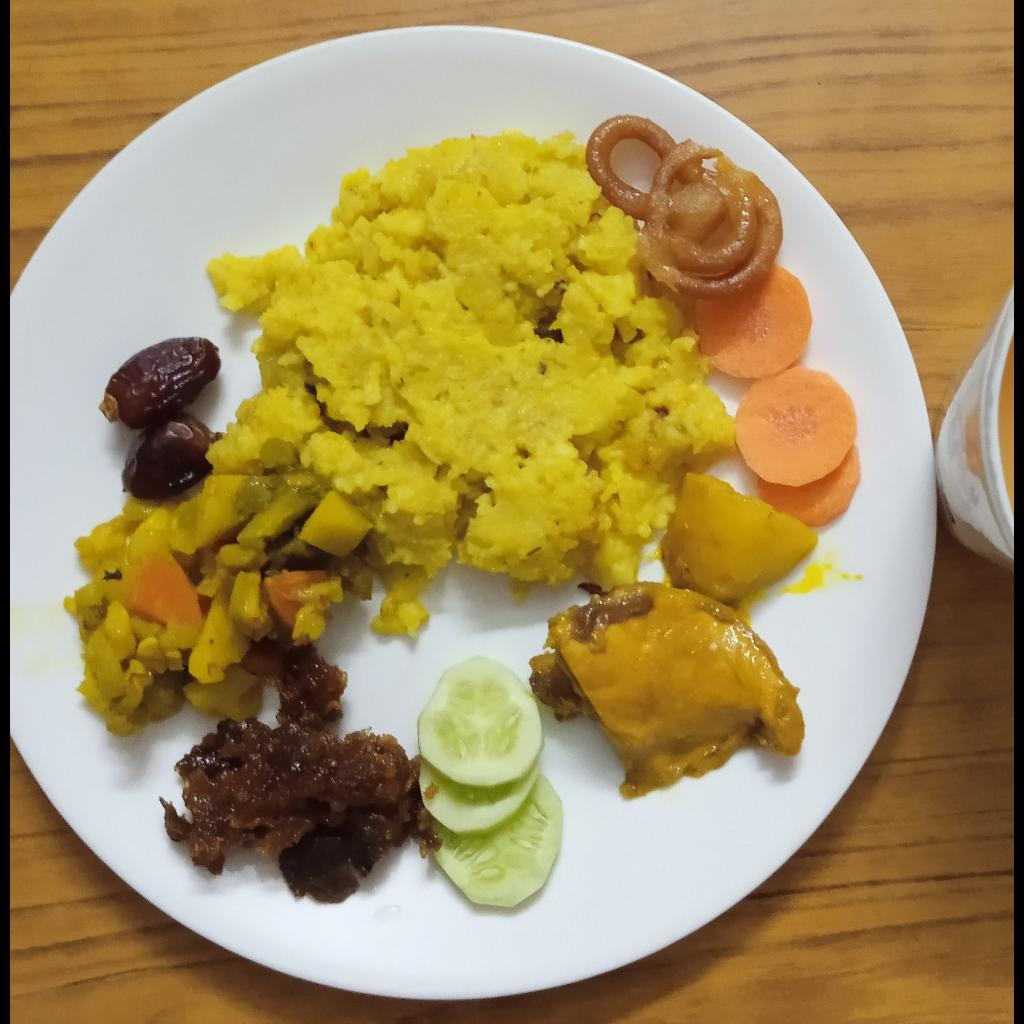achar: (159, 645, 442, 903)
carrot: (695, 262, 861, 527)
chicken: (529, 581, 808, 801)
cucumber: (418, 655, 563, 907)
dates: (100, 333, 221, 497)
jilapi: (587, 114, 783, 296)
khichuri: (208, 130, 737, 640)
potato: (661, 475, 819, 603)
vegetable: (65, 434, 372, 737)
